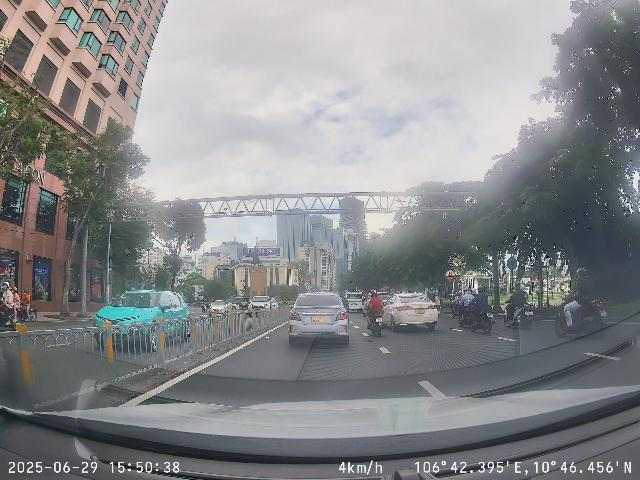303-noi-giao-nhau-chay-theo-vong-xuyen: (507, 257, 518, 270)
